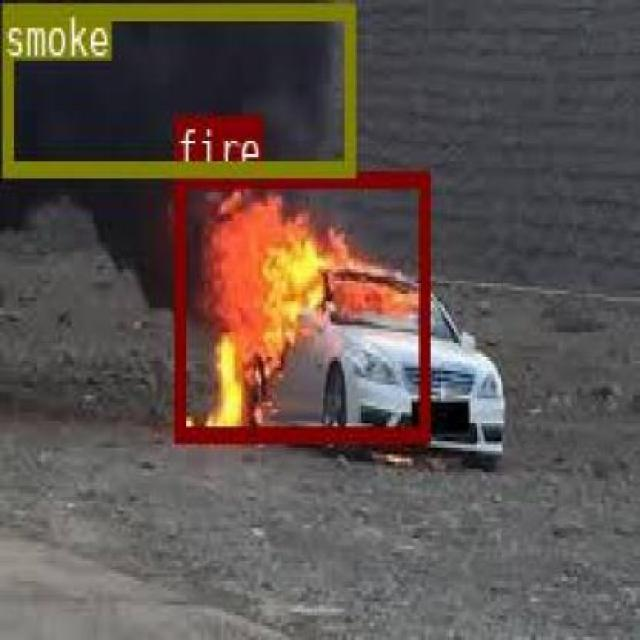fire: (173, 170, 427, 441)
smoke: (1, 0, 352, 172)
